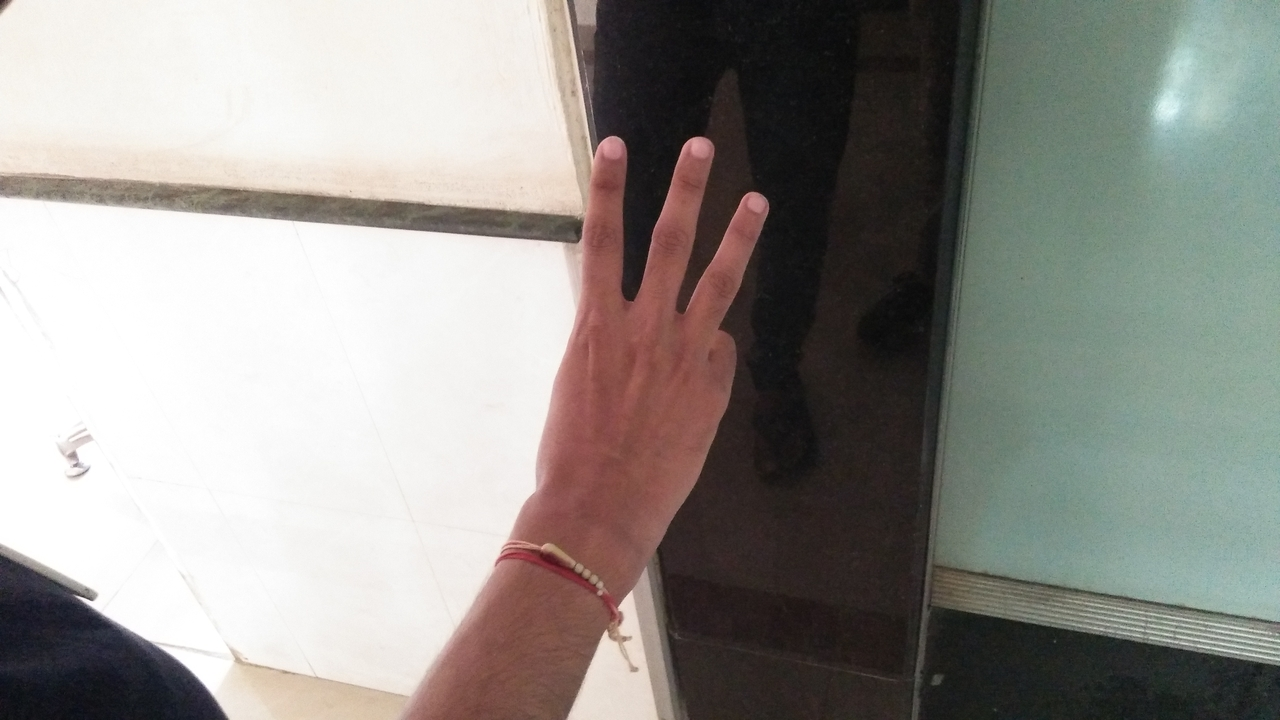fingertip: (720, 178, 778, 228), (668, 126, 722, 174), (586, 128, 634, 170)
